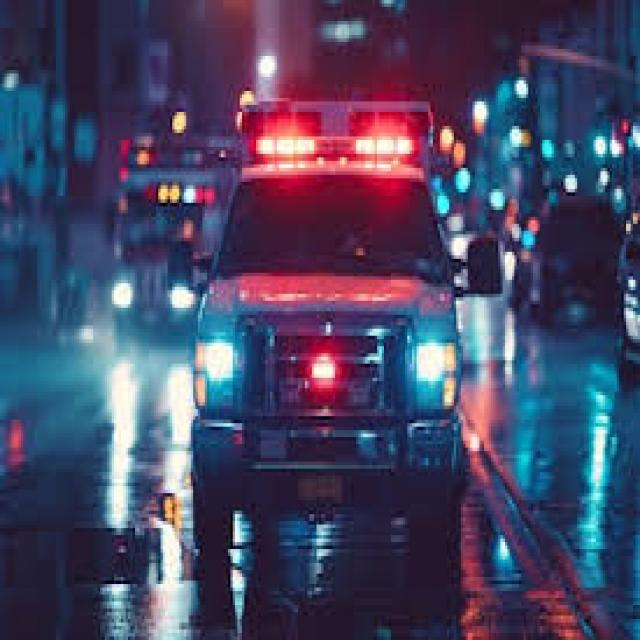emergency lights: (224, 122, 421, 170)
